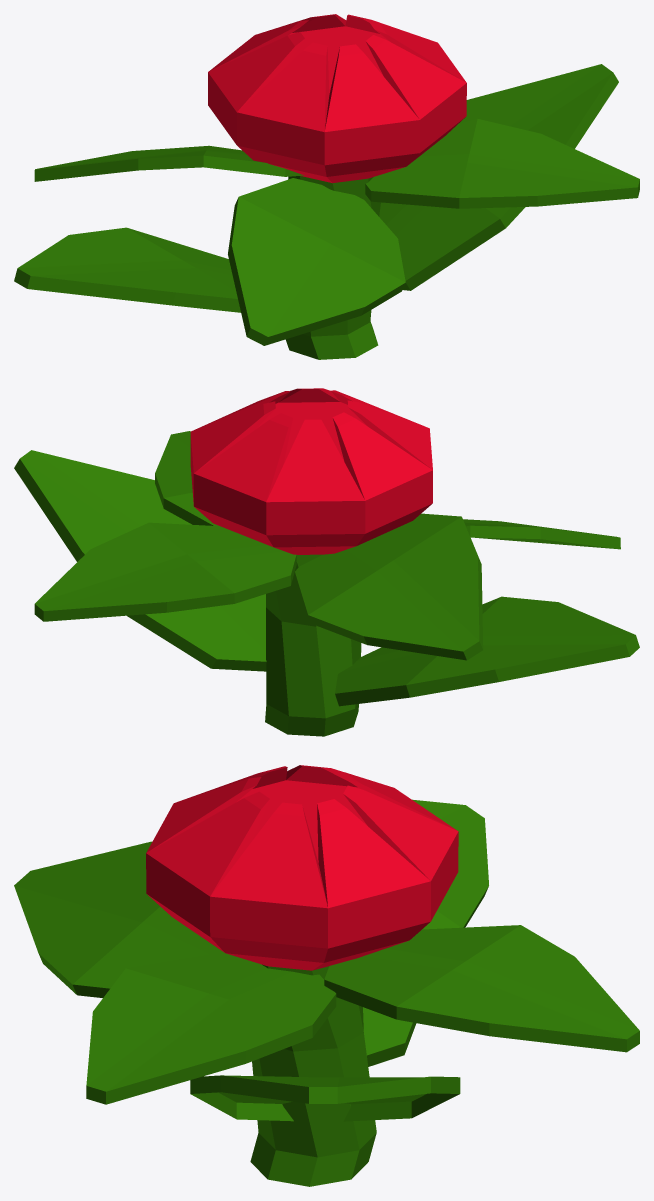
File: flor_v_1.fbx
The picture shows the model from 3 angles, top to bottom: view 1: azimuth 30°, elevation 25°; view 2: azimuth 150°, elevation 25°; view 3: azimuth 270°, elevation 25°; orthographic projection. The views are drawn at different scales.
Parts seen in each view (by area): view 1: Cylinder.012; view 2: Cylinder.012; view 3: Cylinder.012.
Part boxes in pixels (x1,y1,x2,y2): Cylinder.012: [14, 14, 639, 359]; Cylinder.012: [14, 388, 639, 736]; Cylinder.012: [14, 765, 639, 1186].
Bounding box in the file's own units: 90.46 × 44.35 × 66.5.
